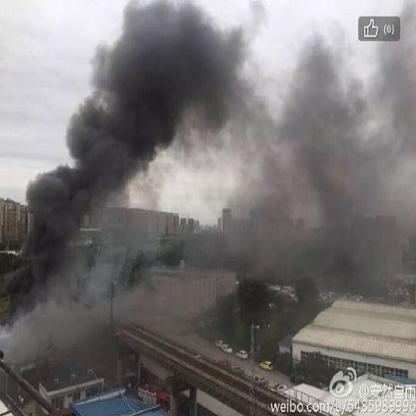smoke: (65, 2, 253, 158), (237, 156, 413, 287), (260, 26, 409, 155), (16, 165, 100, 362)
